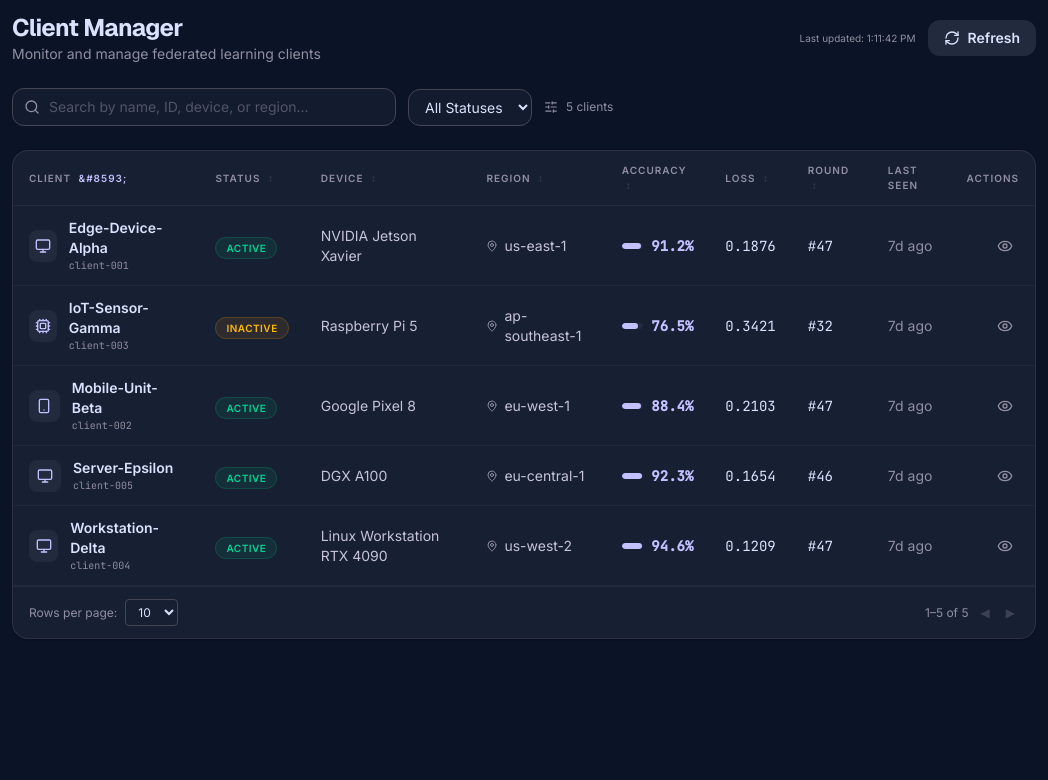
Clients page › shows empty state when search yields no results
Expected: the text "Edge-Device-Alpha" is shown, [69, 219, 162, 256]
In the field with placeholder "Search by name, ID, device, or region...": (204, 107) [12, 88, 396, 126], type "zzzzz"
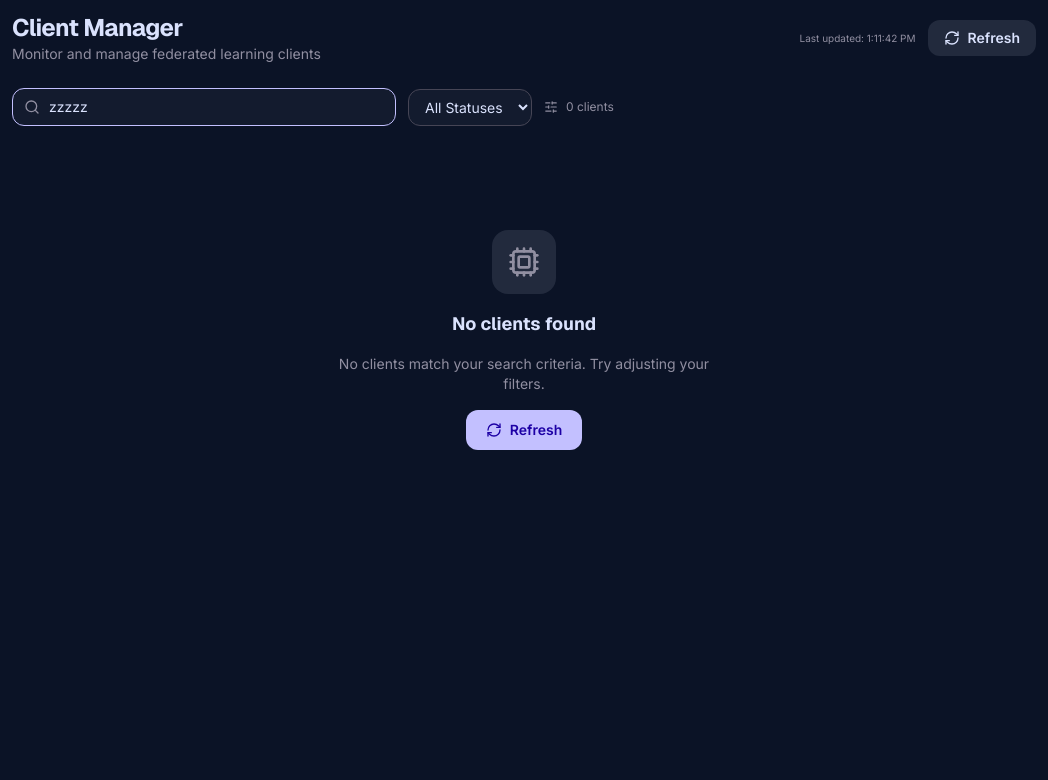
Expected: the text "Edge-Device-Alpha" is gone
Expected: the heading "No clients found" is shown, [452, 310, 596, 338]
